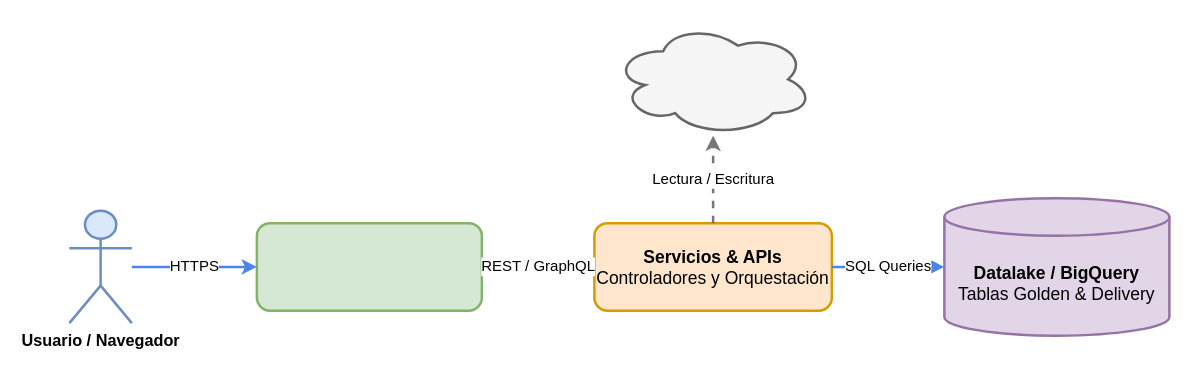
Image size: 1191x373. Some labels were removed from this diagram. Here are the shapes that lost their labels. From the top down, the centre of each, then its label:
the point at 712,78: Cloud Storage Archivos & Recursos
the point at 368,266: Astro Frontend Data Academy UI
